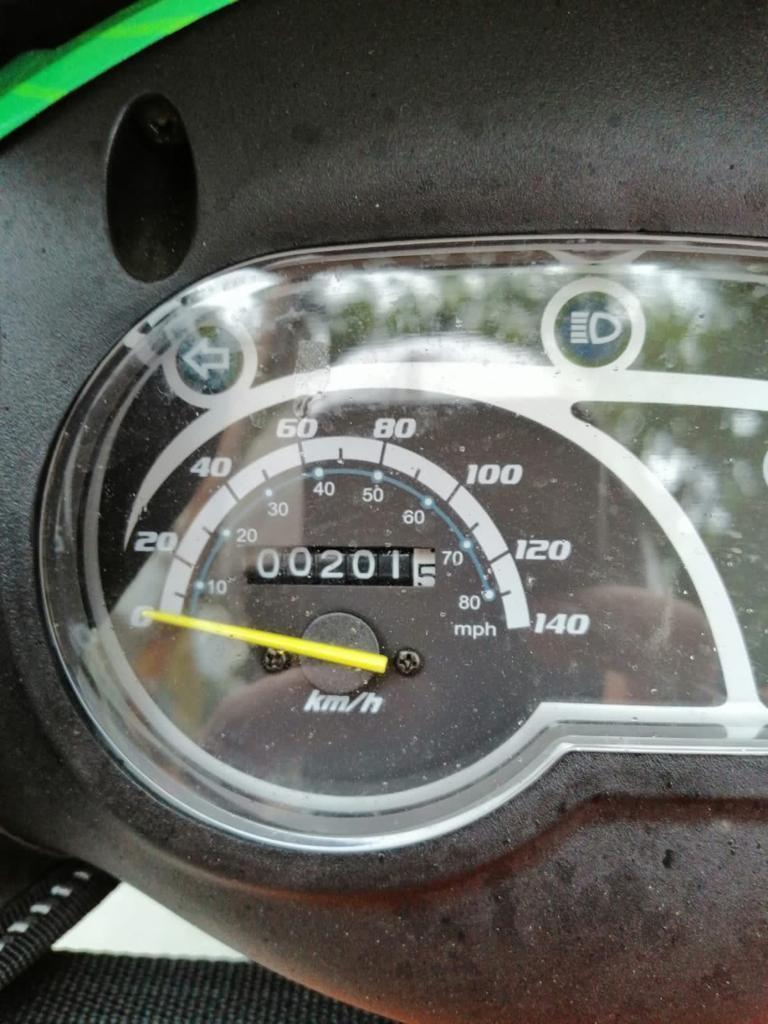0: (352, 546, 377, 581), (286, 545, 312, 578), (255, 547, 280, 581)
1: (388, 547, 403, 584)
2: (317, 547, 344, 580)
5: (414, 558, 438, 587)
odometer: (242, 543, 445, 596)
